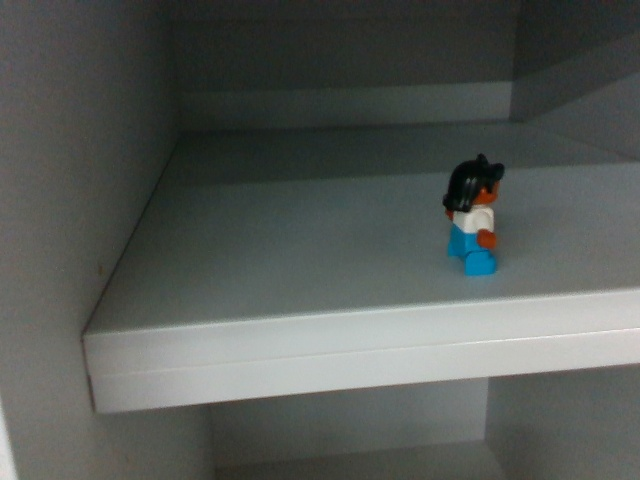people: (439, 153, 507, 280)
